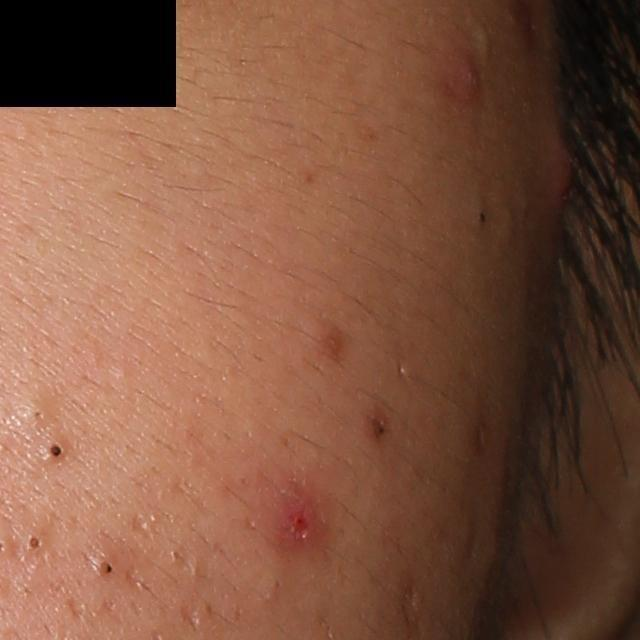atrophic_scar: (398, 578, 424, 630), (177, 597, 206, 638), (126, 560, 147, 596)
comedo: (29, 402, 50, 427), (22, 535, 50, 553)
papule: (543, 125, 577, 208), (271, 497, 319, 543), (453, 49, 481, 102)
